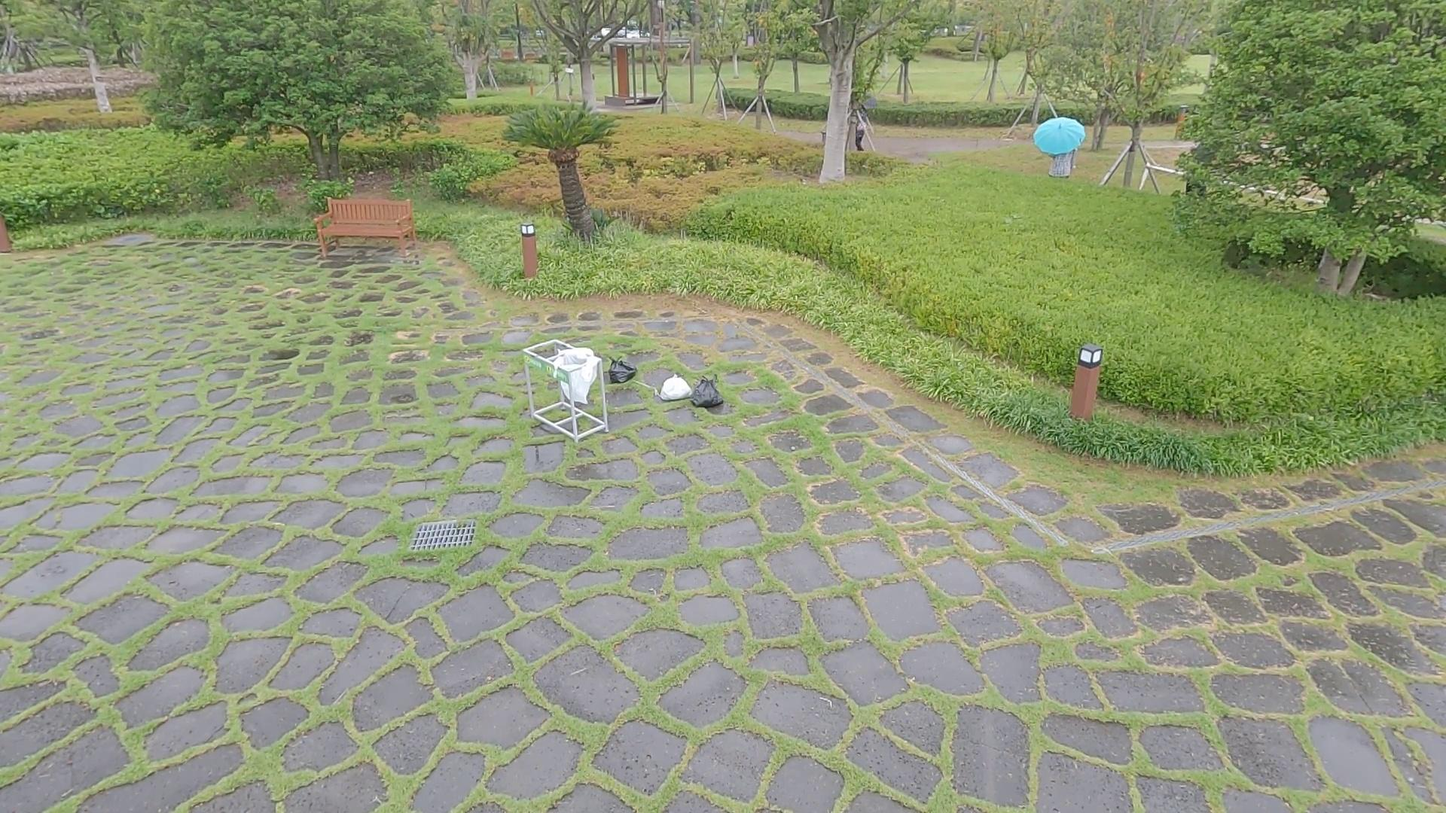trash: (693, 373, 724, 410), (659, 373, 693, 403), (608, 354, 638, 383)
